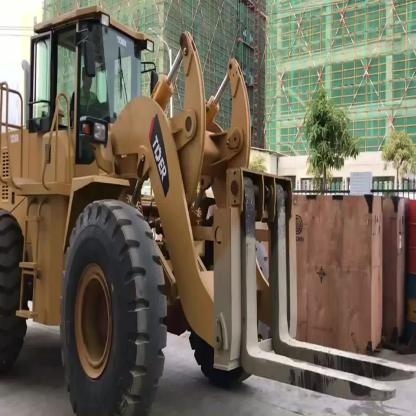bull_dozer/loader/grader: (7, 19, 403, 413)
